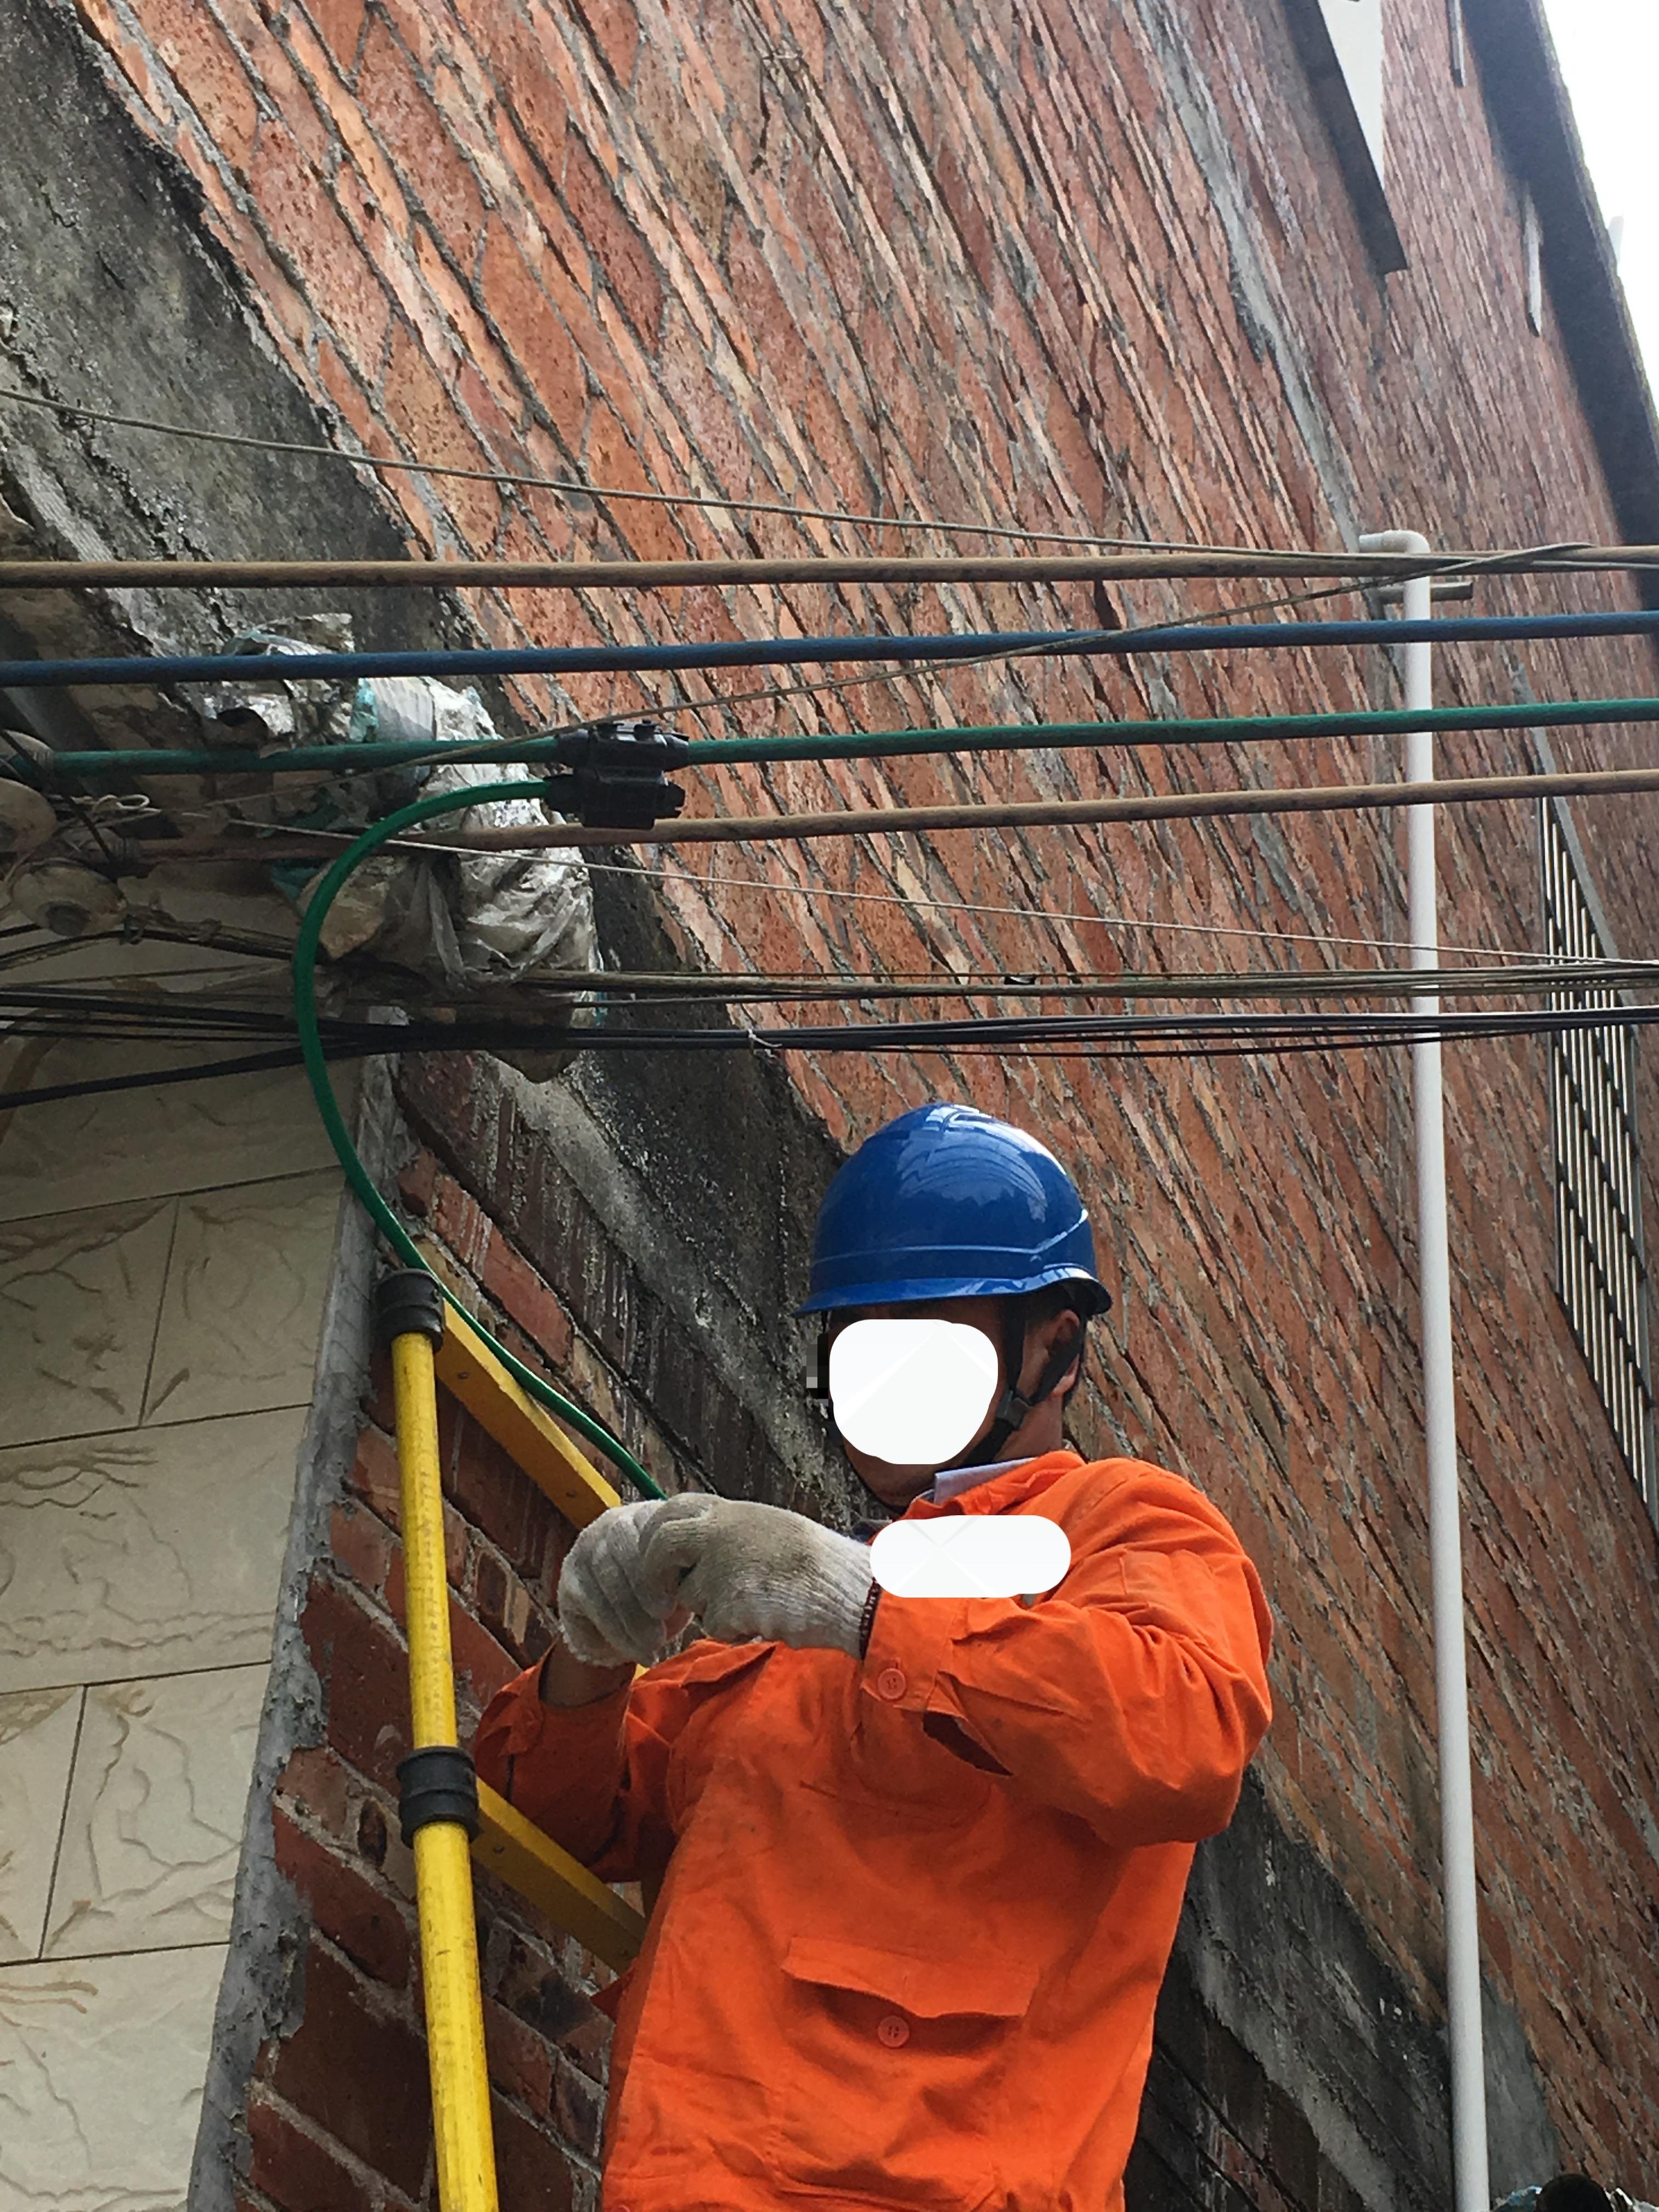halt: (789, 1106, 1121, 1494)
outear: (971, 1296, 1114, 1444)
